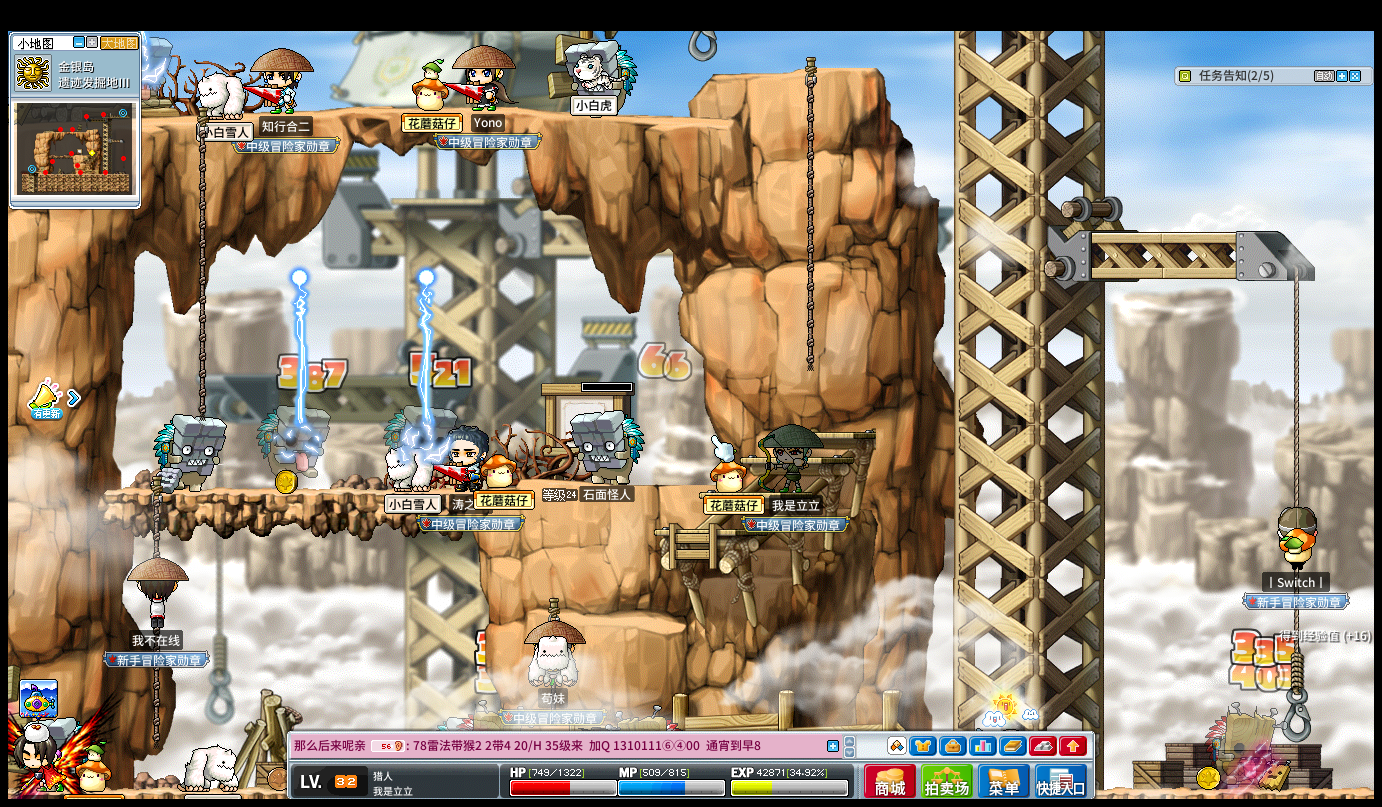floor: (146, 103, 739, 132), (103, 486, 482, 499), (1094, 228, 1288, 243), (706, 61, 882, 76), (579, 611, 686, 634), (710, 64, 883, 78), (709, 67, 889, 80), (691, 491, 834, 499), (613, 480, 717, 490), (652, 529, 761, 538), (777, 449, 859, 458), (811, 429, 876, 439)
monster: (256, 404, 331, 490), (151, 414, 227, 493), (1206, 704, 1278, 787), (569, 410, 644, 482), (383, 403, 439, 481)
rope: (803, 51, 817, 370), (196, 111, 207, 425), (1289, 273, 1303, 505), (149, 481, 163, 557), (1289, 443, 1302, 507), (151, 668, 161, 748)
